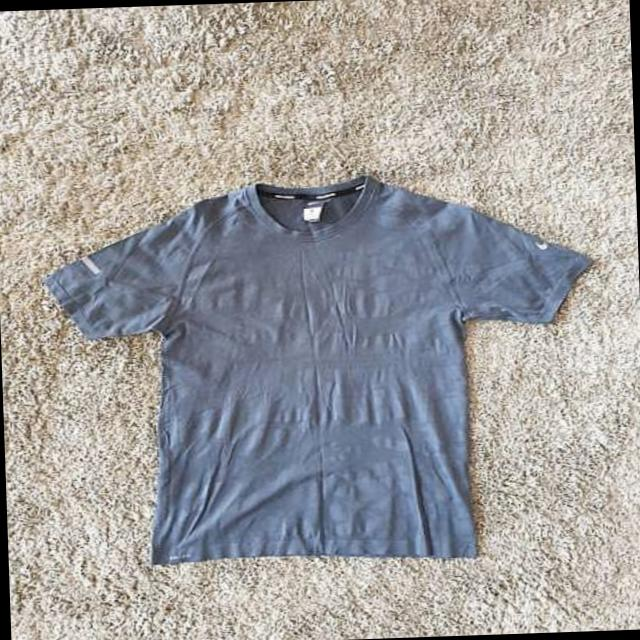T_SHIRT: (25, 158, 620, 581)
